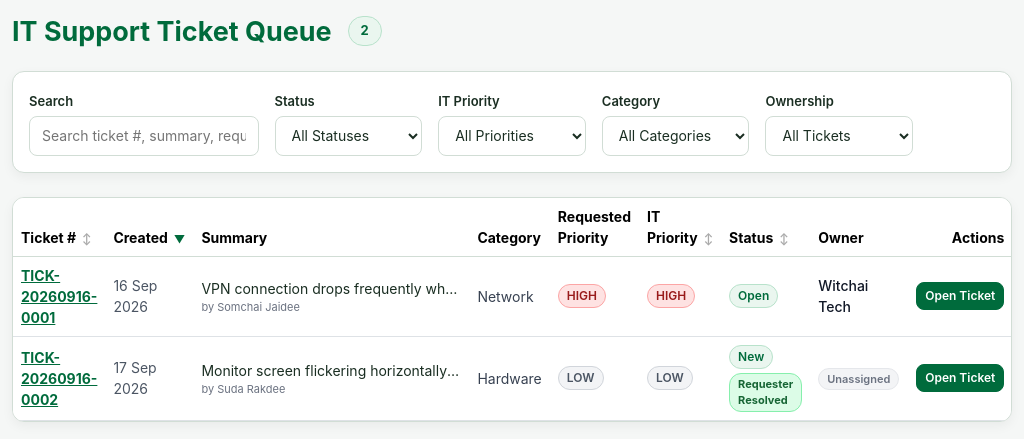
Scenario: StaffTicketQueue Component UI Tests (QUEUE-UI-01, QUEUE-UI-02) › QUEUE-UI-02: Search Toolbar and UI States › renders no-search-results state with Clear Filters button when search yields nothing
This screenshot has width=1024, height=439.
Expected: the table with test id "staff-queue-table" is shown, [13,198,1011,421]
Type "nonexistent query" into the field with placeholder "Search ticket #, summary, requester...". click: (144, 136)
box: [29,116,258,156]
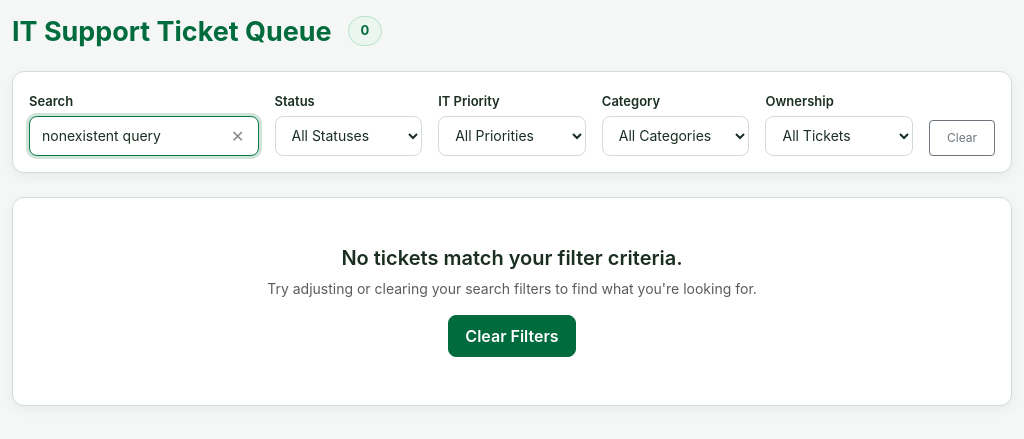
Expected: the heading "No tickets match your filter criteria." is shown, [341,246,683,270]
Expected: the button "Clear Filters" is shown
Clicking Clear Filters resets the search and triggers reload
Click the button "Clear Filters". click: click(512, 336)
box: [448,315,576,357]
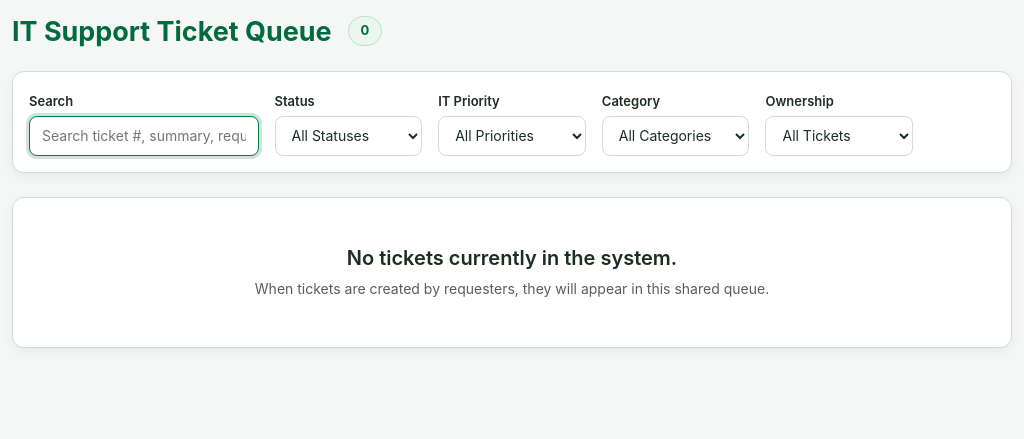
Expected: the field with placeholder "Search ticket #, summary, requester..." is empty, [29,116,258,156]
